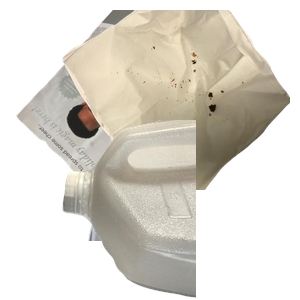glass: (86, 120, 277, 300)
paper: (14, 10, 229, 190)
plastic: (60, 120, 300, 300)
trash: (60, 10, 300, 190)
